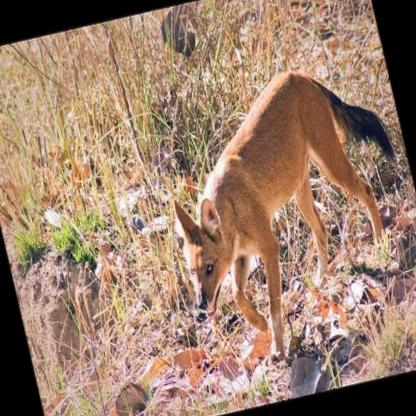dhole: (144, 46, 416, 380)
